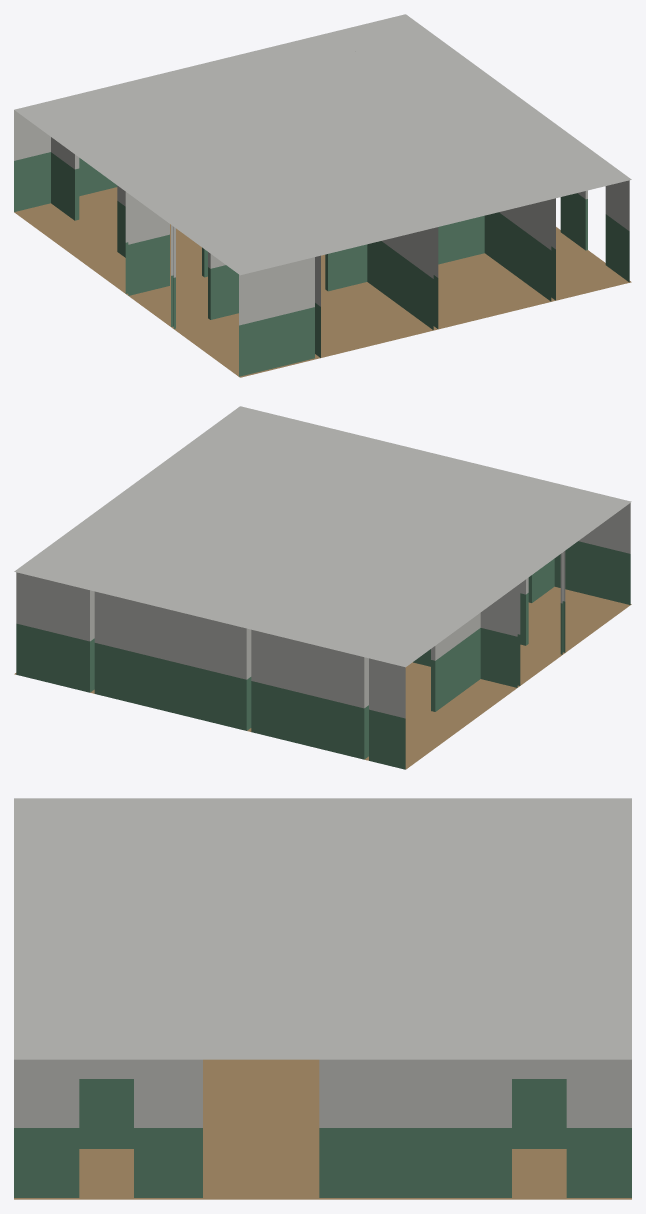
Rendered from chunk_1_0.glb.
3 views of the same model, one above another, from view 1: azimuth 30°, elevation 25°; view 2: azimuth 150°, elevation 25°; view 3: azimuth 270°, elevation 25° (orthographic). The views are drawn at different scales.
Parts seen in each view (by area): view 1: chunk_1_0; view 2: chunk_1_0; view 3: chunk_1_0.
Boxes of the visible parts, x1,y1,x2,y2 form: chunk_1_0: (14,14,631,377); chunk_1_0: (14,406,631,769); chunk_1_0: (14,798,631,1199).
Size of the model in its own units: 12 by 3 by 12.
